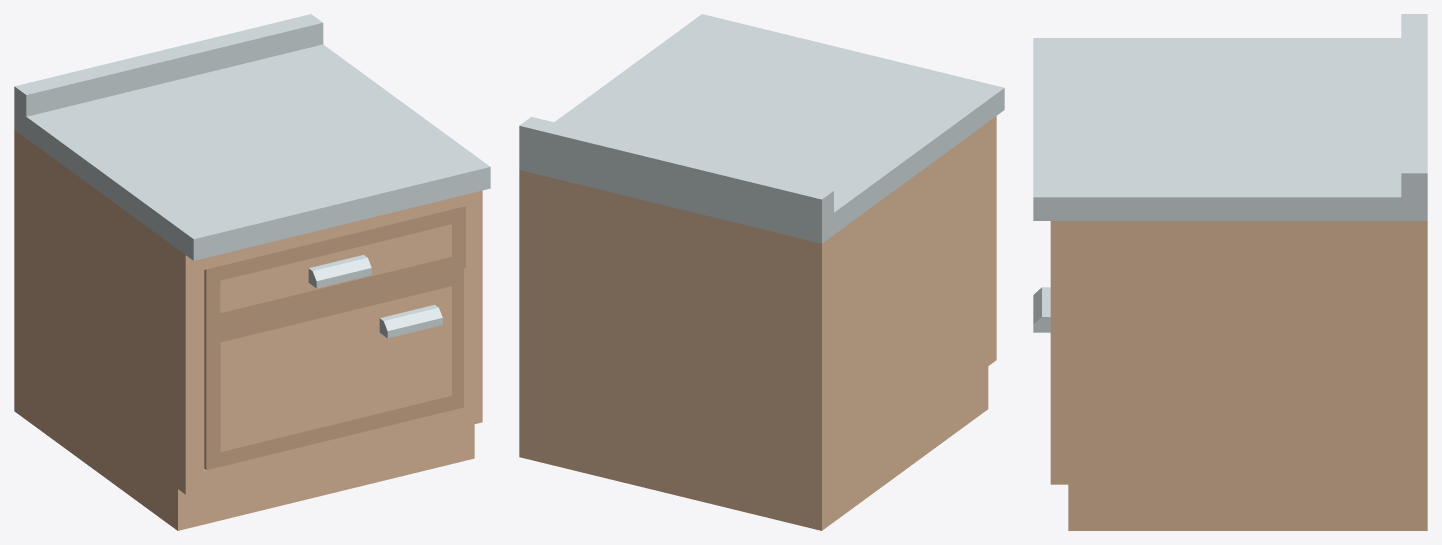
The model's file is cabinetDrawer.glb.
The picture shows the model from 3 angles, left to right: view 1: azimuth 30°, elevation 25°; view 2: azimuth 150°, elevation 25°; view 3: azimuth 270°, elevation 25°; orthographic projection. The views are drawn at different scales.
Visible parts, largest first — view 1: kitchenCabinetDrawer(Clone), door.005, drawer.004; view 2: kitchenCabinetDrawer(Clone); view 3: kitchenCabinetDrawer(Clone), door.005.
Boxes of the visible parts, left/top/right/bottom form: kitchenCabinetDrawer(Clone): left=14, top=14, right=490, bottom=530; door.005: left=204, top=268, right=463, bottom=470; drawer.004: left=204, top=206, right=465, bottom=331; kitchenCabinetDrawer(Clone): left=519, top=14, right=1004, bottom=530; kitchenCabinetDrawer(Clone): left=1033, top=14, right=1427, bottom=530; door.005: left=1033, top=287, right=1050, bottom=332.
Bounding box in the file's own units: 0.43 × 0.45 × 0.45.
